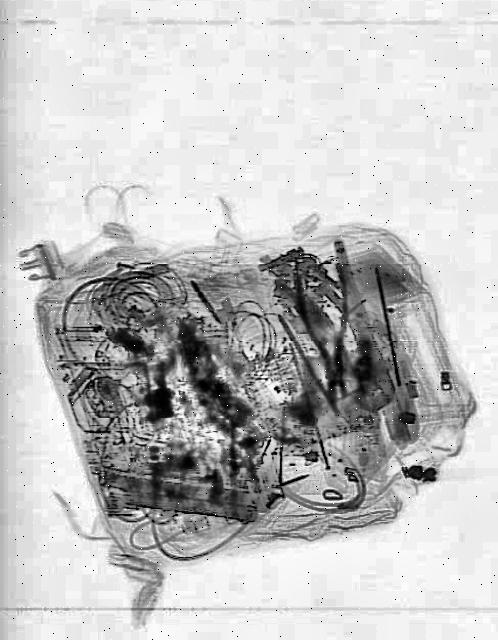Pliers: (290, 258, 364, 410)
